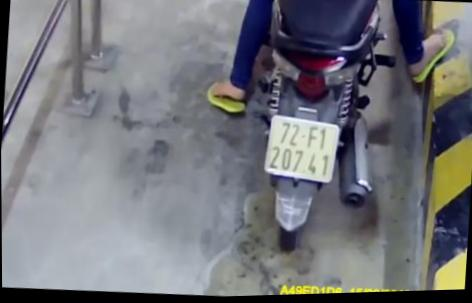LP: (262, 113, 341, 187)
